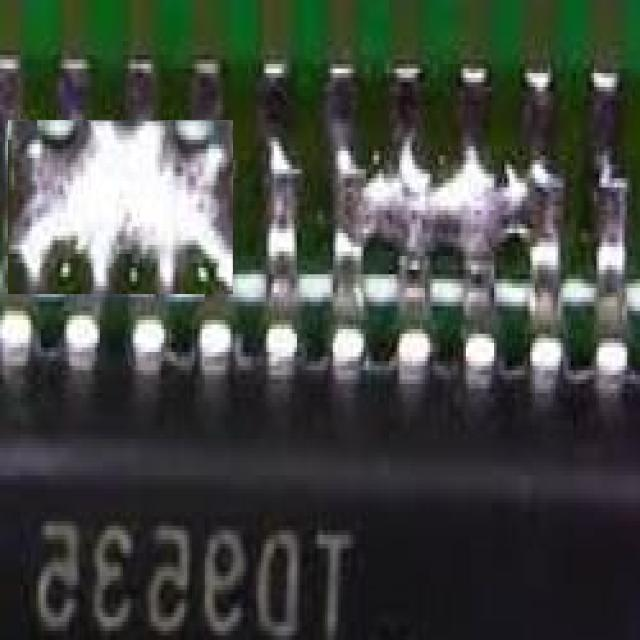Short_circuit: (9, 120, 233, 294)
